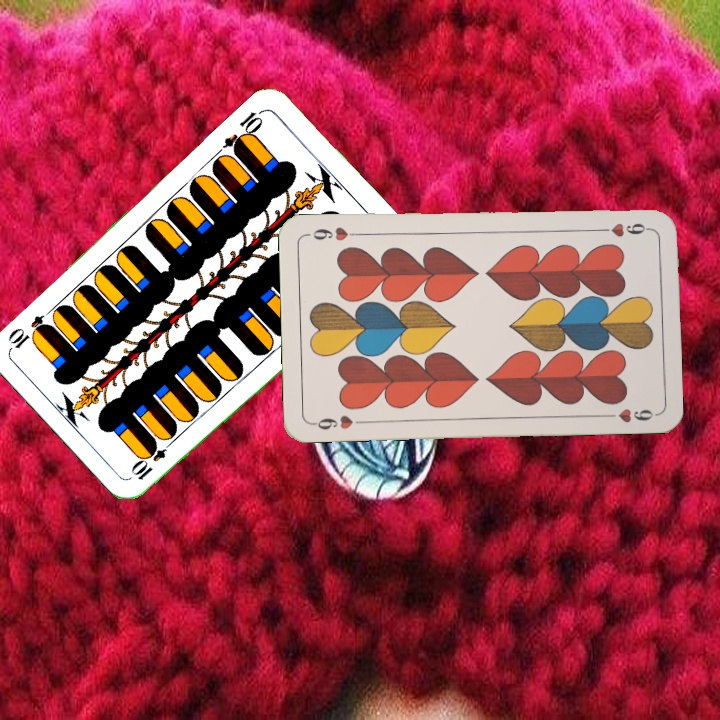E10: (219, 105, 267, 157), (128, 434, 177, 483)
H9: (308, 411, 367, 433), (593, 219, 652, 240)
